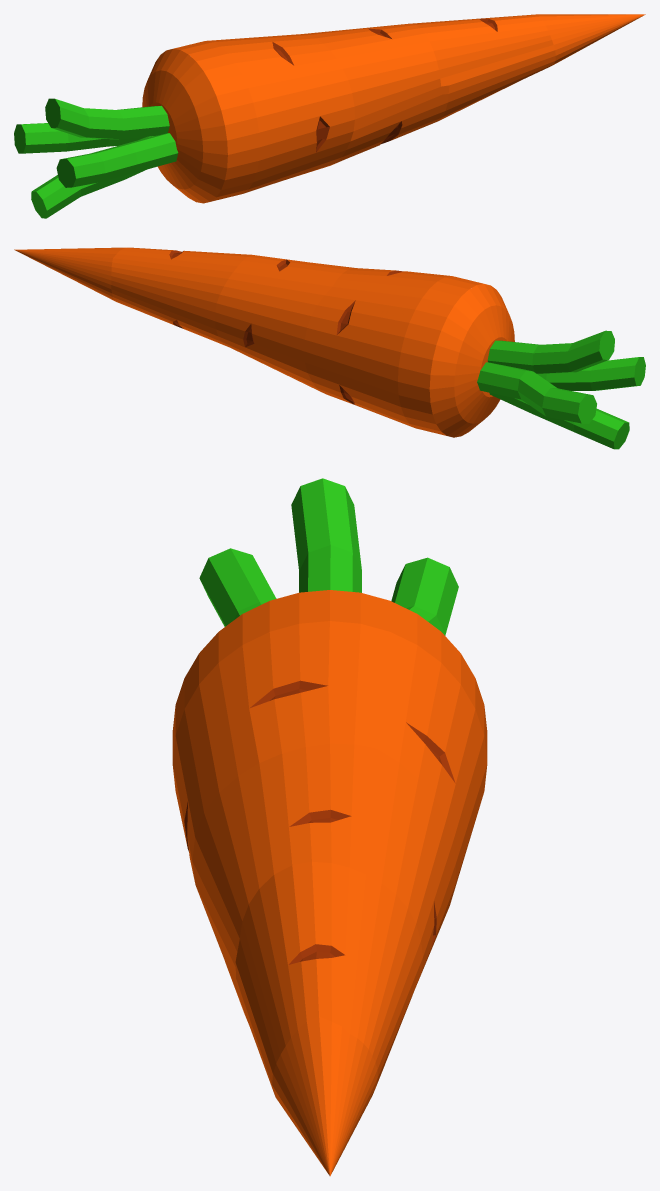
Rendered from Carrot.fbx.
3 views of the same model, one above another, from view 1: azimuth 30°, elevation 25°; view 2: azimuth 150°, elevation 25°; view 3: azimuth 270°, elevation 25° (orthographic). The views are drawn at different scales.
Visible parts, largest first — view 1: Cone, Cylinder.002, Cylinder, Cylinder.003, Cylinder.001; view 2: Cone, Cylinder.003, Cylinder, Cylinder.002, Cylinder.001; view 3: Cone, Cylinder, Cylinder.002, Cylinder.003.
Boxes of the visible parts, box(x1,y1,x2,y2) form: Cone: box(142, 14, 645, 203); Cylinder.002: box(56, 133, 178, 187); Cylinder: box(45, 98, 169, 139); Cylinder.003: box(14, 123, 146, 153); Cylinder.001: box(31, 136, 152, 218); Cone: box(14, 247, 514, 437); Cylinder.003: box(477, 362, 596, 423); Cylinder: box(487, 330, 614, 373); Cylinder.002: box(537, 357, 645, 390); Cylinder.001: box(489, 392, 629, 449); Cone: box(172, 590, 487, 1176); Cylinder: box(291, 478, 361, 592); Cylinder.002: box(199, 548, 276, 626); Cylinder.003: box(391, 557, 458, 635).
Bounding box in the file's own units: 22.31 × 5 × 5.
Materials: 11 (10 with a texture image).
